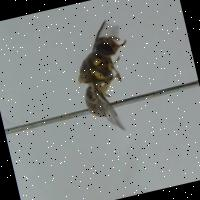Oriental-fruit-fly: (63, 13, 149, 138)
